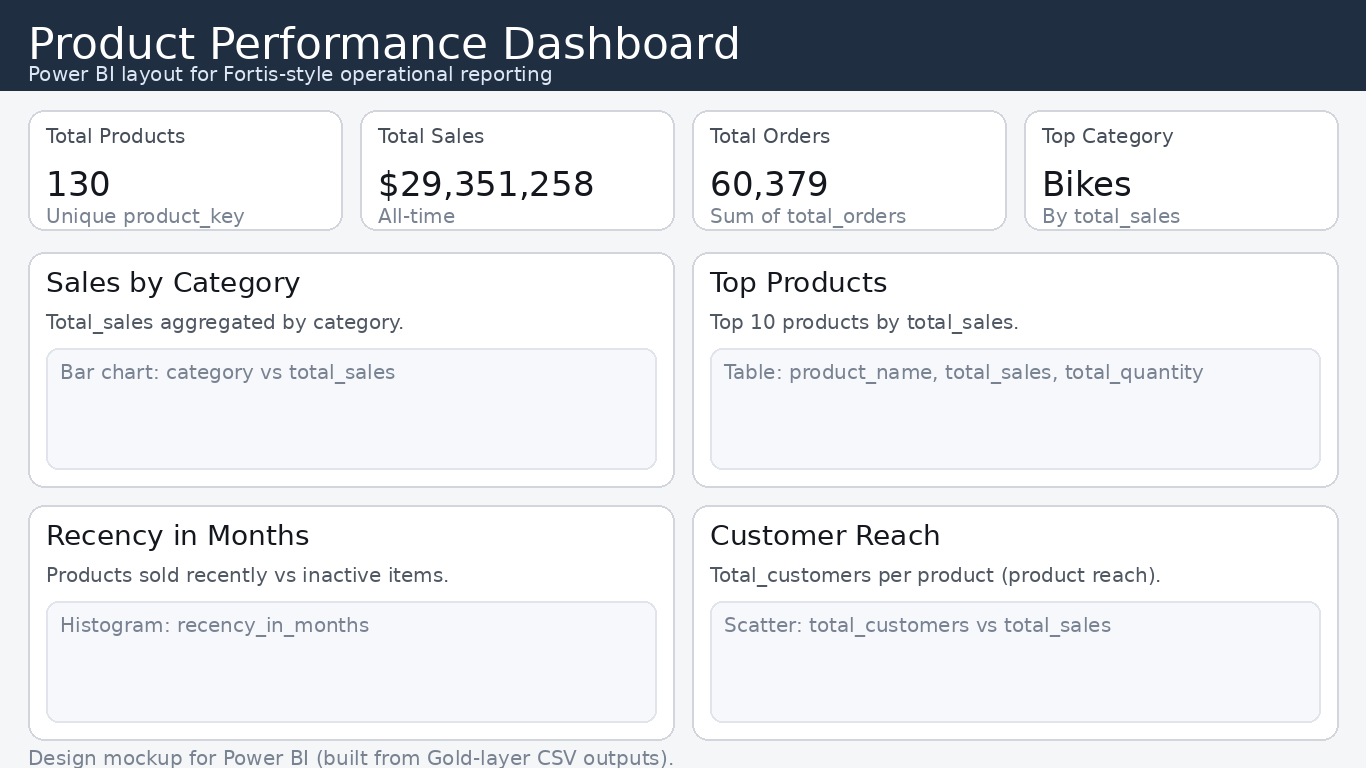

The page's visual inventory and layout, read from the dashboard file:
{"tool":"powerbi","page":{"name":"Product Performance","canvas":[1280,720],"ordinal":1},"visuals":[{"type":"shape","box":[0,0,1280,100],"z":0},{"type":"card","title":"Total Products","fields":{"Values":["report_products.Total Products"]},"box":[20,109.6,300,120],"z":1000},{"type":"card","title":"Total Sales","fields":{"Values":["report_products.Total Product Sales"]},"box":[333.3,109.6,300,120],"z":2000},{"type":"card","title":"Top Category","fields":{"Values":["report_products.Top Category"]},"box":[960,110,300,120],"z":3000},{"type":"card","title":"Total Orders","fields":{"Values":["report_products.Total Product Orders"]},"box":[646.7,109.6,300,120],"z":4000},{"type":"textbox","box":[0,64.4,1280,34.4],"z":5000},{"type":"textbox","box":[0,10,1280,70],"z":6000},{"type":"slicer","title":"Category","fields":{"Values":["report_products.category"]},"box":[1060,17,200,66],"z":7000},{"type":"clusteredColumnChart","title":"Product Recency Profile","fields":{"Y":["Sum(report_products.product_key)"],"Category":["report_products.Recency Bucket"]},"box":[20,485,612.9,215],"z":8000},{"type":"tableEx","title":"Top Products","fields":{"Values":["report_products.product_name","Sum(report_products.total_sales)","Sum(report_products.total_quantity)"]},"box":[647.1,485,612.9,215],"z":9000},{"type":"clusteredBarChart","title":"Sales by Category","fields":{"Category":["report_products.category"],"Y":["Sum(report_products.total_sales)"]},"box":[20,250,612,215],"z":10000},{"type":"scatterChart","title":"Customer Reach","fields":{"X":["Sum(report_products.total_customers)"],"Y":["Sum(report_products.total_sales)"],"Category":["report_products.product_name"],"Size":["Sum(report_products.total_quantity)"],"Series":["report_products.category"]},"box":[647,250,612,215],"z":11000}]}

Visuals, with their boxes in screenshot pixels (x1, y1, x2, y2), scaled from the page's 1280x720 canvas onto the 1366x768 screenshot:
shape: rect(0, 0, 1365, 107)
"Total Products" card: rect(21, 117, 342, 245)
"Total Sales" card: rect(356, 117, 676, 245)
"Top Category" card: rect(1024, 117, 1345, 245)
"Total Orders" card: rect(690, 117, 1010, 245)
textbox: rect(0, 69, 1365, 105)
textbox: rect(0, 11, 1365, 85)
"Category" slicer: rect(1131, 18, 1345, 89)
"Product Recency Profile" clusteredColumnChart: rect(21, 517, 675, 747)
"Top Products" tableEx: rect(691, 517, 1345, 747)
"Sales by Category" clusteredBarChart: rect(21, 267, 674, 496)
"Customer Reach" scatterChart: rect(690, 267, 1344, 496)
